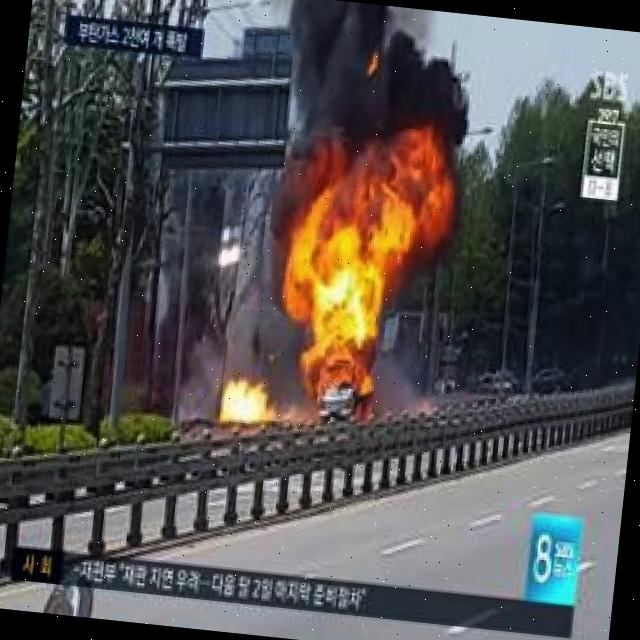fire: (278, 172, 409, 424), (216, 381, 268, 425)
